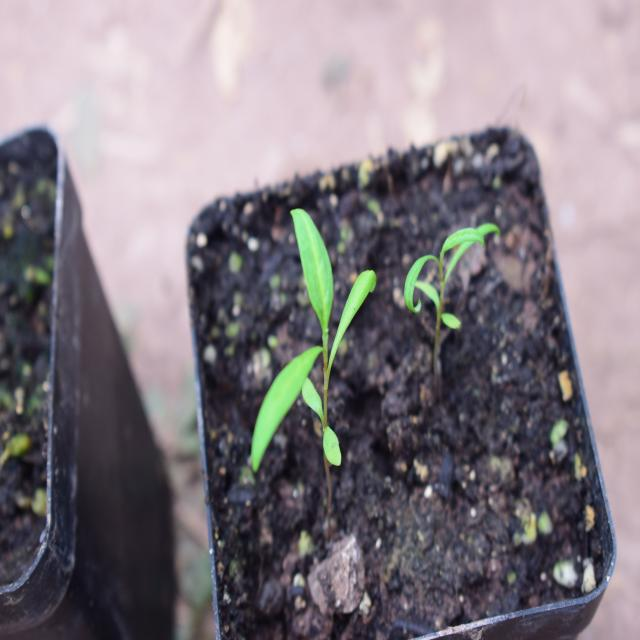white_smart_weed: (236, 208, 375, 467)
